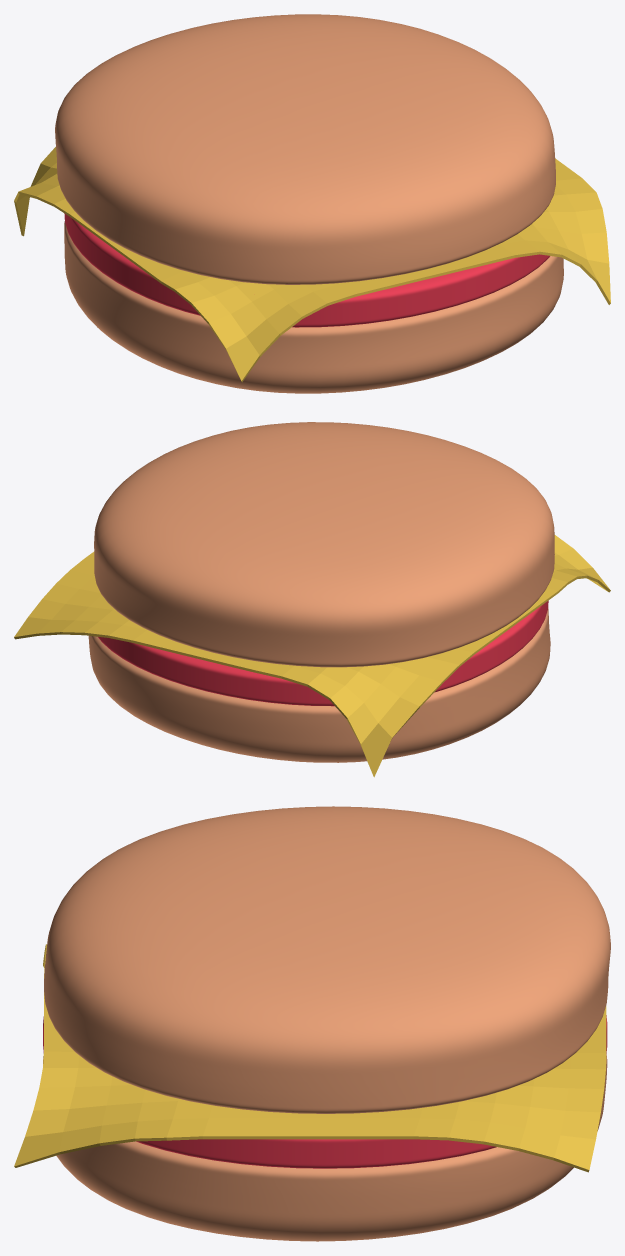
File: hamburger.glb
The picture shows the model from 3 angles, top to bottom: view 1: azimuth 30°, elevation 25°; view 2: azimuth 150°, elevation 25°; view 3: azimuth 270°, elevation 25°; orthographic projection. The views are drawn at different scales.
Parts seen in each view (by area): view 1: Cube.002, Cube, Plane, Cube.001; view 2: Cube.002, Cube, Plane, Cube.001; view 3: Cube.002, Cube, Plane, Cube.001.
Boxes of the visible parts, bbox=[...] form: Cube.002: bbox=[55, 14, 555, 284]; Cube: bbox=[64, 221, 563, 393]; Plane: bbox=[14, 147, 610, 382]; Cube.001: bbox=[64, 213, 549, 327]; Cube.002: bbox=[94, 422, 554, 667]; Cube: bbox=[88, 608, 550, 762]; Plane: bbox=[14, 535, 610, 777]; Cube.001: bbox=[98, 600, 548, 706]; Cube.002: bbox=[44, 806, 610, 1113]; Cube: bbox=[43, 1053, 607, 1241]; Plane: bbox=[14, 944, 606, 1172]; Cube.001: bbox=[43, 1015, 607, 1168].
Size of the model in its own units: 1.88 by 0.9583 by 1.94.
